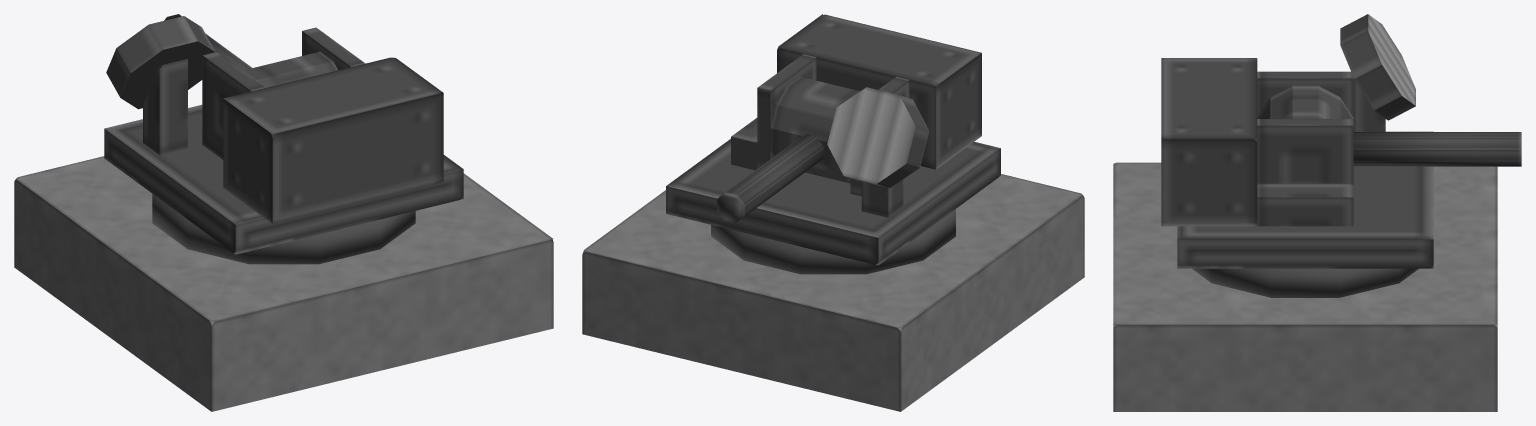
The model's file is gatling35.obj.
3 views of the same model, side by side, from view 1: azimuth 30°, elevation 25°; view 2: azimuth 150°, elevation 25°; view 3: azimuth 270°, elevation 25° (orthographic). The views are drawn at different scales.
Visible parts, largest first — view 1: Base, Turret, Yawthingy, RadarDish, GunPivot; view 2: Base, Turret, RadarDish, Yawthingy, GunPivot, Barrel; view 3: Base, Turret, Barrel, Yawthingy, RadarDish, GunPivot.
Part boxes in pixels (box(x1,y1,x2,y2)): Base: box(14, 156, 553, 411); Turret: box(104, 27, 463, 254); Yawthingy: box(152, 194, 415, 264); RadarDish: box(106, 16, 215, 109); GunPivot: box(242, 51, 337, 136); Base: box(582, 174, 1084, 411); Turret: box(666, 14, 1000, 265); RadarDish: box(827, 87, 929, 187); Yawthingy: box(711, 209, 955, 274); GunPivot: box(770, 76, 859, 183); Barrel: box(717, 133, 823, 223); Base: box(1113, 162, 1497, 411); Turret: box(1161, 58, 1433, 268); Barrel: box(1353, 132, 1521, 166); Yawthingy: box(1192, 268, 1418, 297); RadarDish: box(1340, 14, 1415, 120); GunPivot: box(1257, 85, 1353, 118).
Bounding box in the file's own units: 3 × 2.31 × 3.19.
Materials: 1 (1 with a texture image).
